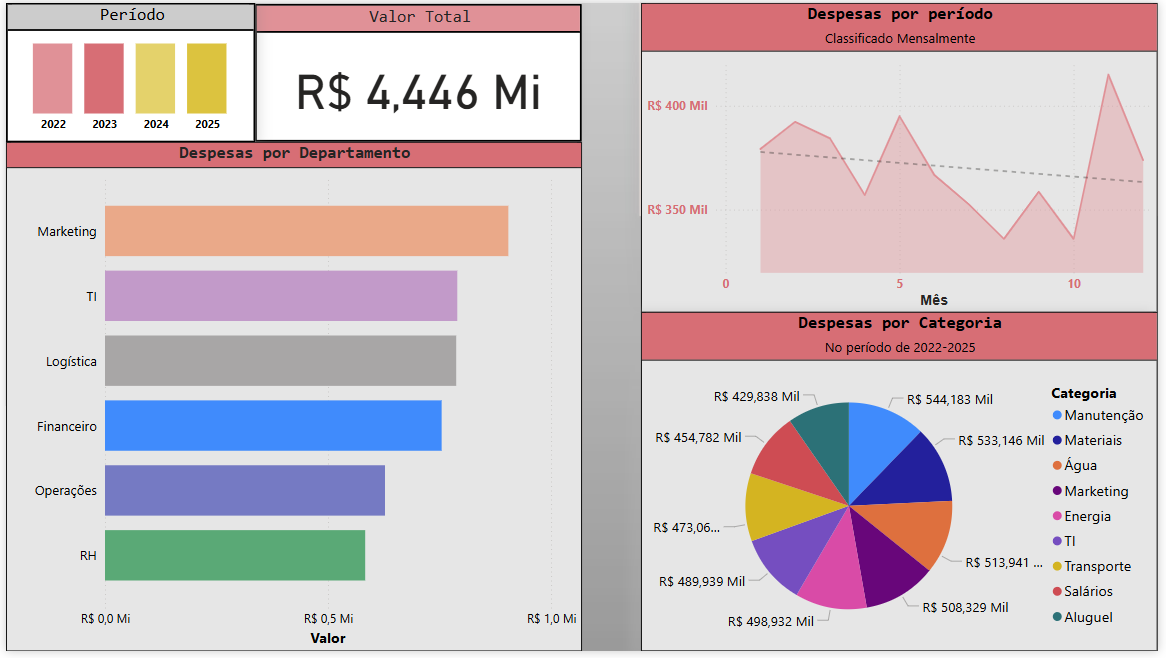

The page's visual inventory and layout, read from the dashboard file:
{"tool":"powerbi","page":{"name":"Despesas","canvas":[1280,720],"ordinal":0},"visuals":[{"type":"areaChart","title":"Despesas por período","fields":{"Category":["Sheet 1 Depesas Atualizado.Mês"],"Y":["Sum(Sheet 1 Depesas Atualizado.Valor)"]},"box":[705.5,0,574,343.8],"z":0},{"type":"pieChart","title":"Despesas por Categoria","fields":{"Category":["Sheet 1 Depesas Atualizado.Categoria"],"Y":["Sum(Sheet 1 Depesas Atualizado.Valor)"]},"box":[705.5,343.8,574,376.7],"z":1000},{"type":"card","title":"Valor Total","fields":{"Values":["Sum(Sheet 1 Depesas Atualizado.Valor)"]},"box":[276.7,1.4,363,153.4],"z":2000},{"type":"columnChart","title":"Período","fields":{"Category":["Sheet 1 Depesas Atualizado.Ano"],"Y":["Sum(Sheet 1 Depesas Atualizado.Mês)"]},"box":[0,0,276.7,154.8],"z":3000},{"type":"barChart","title":"Despesas por Departamento","fields":{"Y":["Sum(Sheet 1 Depesas Atualizado.Valor)"],"Category":["Sheet 1 Depesas Atualizado.Departamento Responsável"]},"box":[0,154.8,639.7,565.8],"z":4000}]}

Visuals, with their boxes in screenshot pixels (x1, y1, x2, y2), scaled from the page's 1280x720 canvas onto the 1166x658 screenshot:
"Despesas por período" areaChart: (643, 0, 1165, 314)
"Despesas por Categoria" pieChart: (643, 314, 1165, 657)
"Valor Total" card: (252, 1, 583, 141)
"Período" columnChart: (0, 0, 252, 141)
"Despesas por Departamento" barChart: (0, 141, 583, 657)
